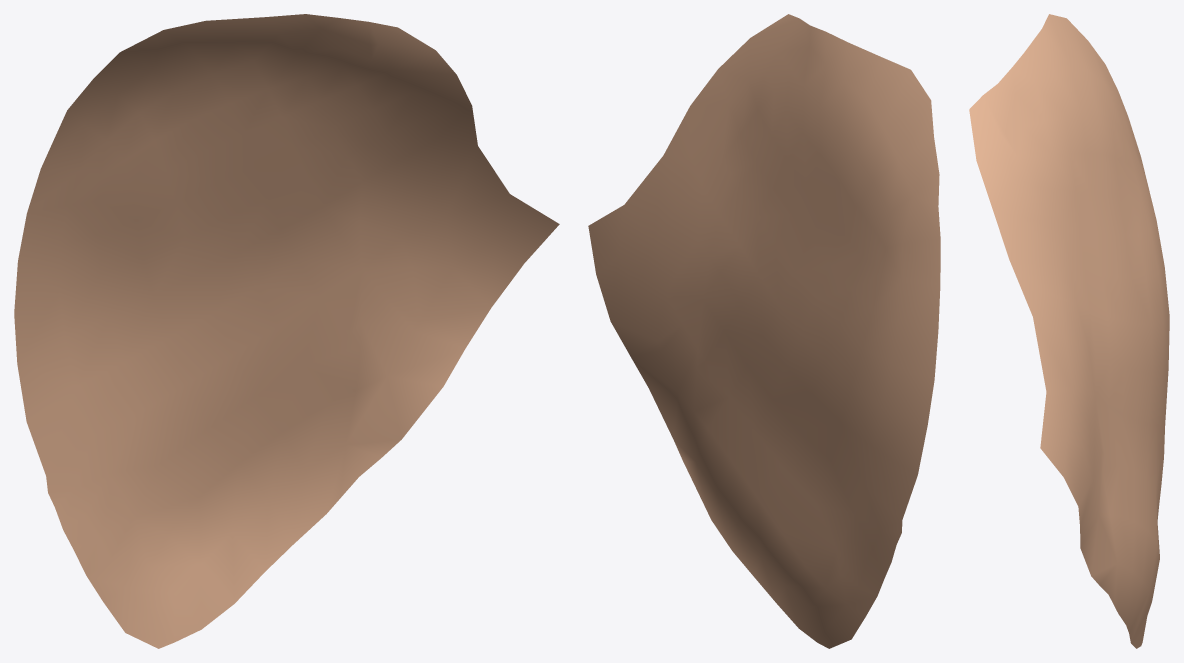
File: scapular-region-l.glb
The picture shows the model from 3 angles, left to right: view 1: azimuth 30°, elevation 25°; view 2: azimuth 150°, elevation 25°; view 3: azimuth 270°, elevation 25°; orthographic projection. The views are drawn at different scales.
Parts seen in each view (by area): view 1: Scapular region.l; view 2: Scapular region.l; view 3: Scapular region.l.
Boxes of the visible parts, x1,y1,x2,y2 form: Scapular region.l: (14,14,559,648); Scapular region.l: (588,14,940,648); Scapular region.l: (969,14,1169,648).
Size of the model in its own units: 0.1386 by 0.1847 by 0.0551.
